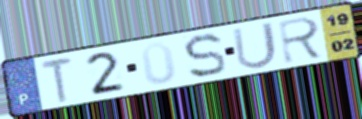0: (139, 41, 178, 86)
2: (84, 50, 129, 97)
R: (276, 14, 327, 66)
S: (181, 32, 229, 80)
T: (38, 55, 76, 104)
U: (230, 19, 280, 71)
